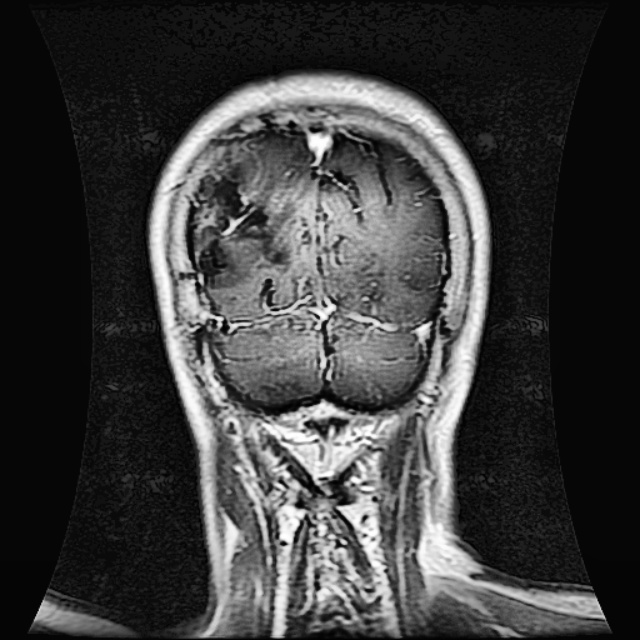Meningioma: (194, 142, 272, 279)
